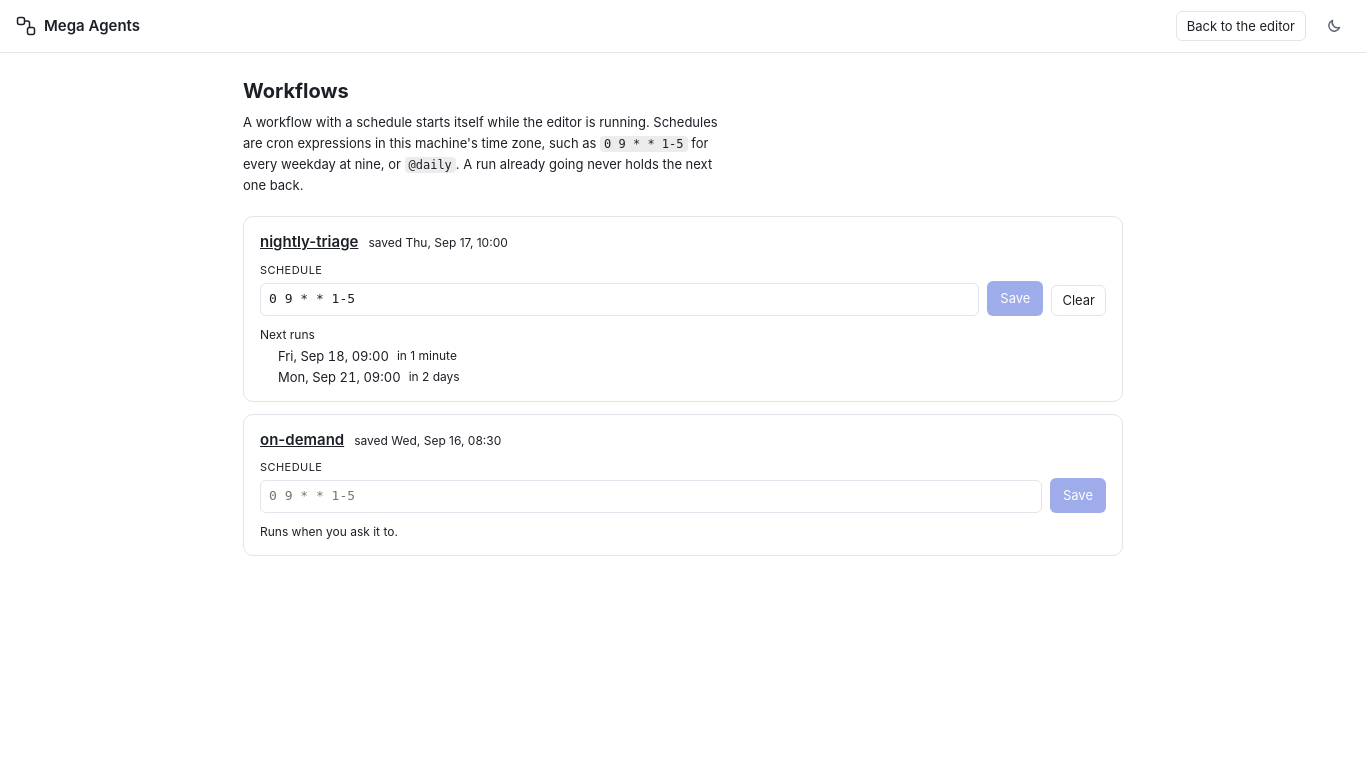
Test: the workflows page › saving puts the workflow on the schedule
The image size is (1366, 768).
expect the link "on-demand" is shown: met, box [260, 429, 344, 450]
Type "@daily" into the field named "Schedule for on-demand".
click(651, 497); type("@daily")  # box [260, 480, 1042, 513]
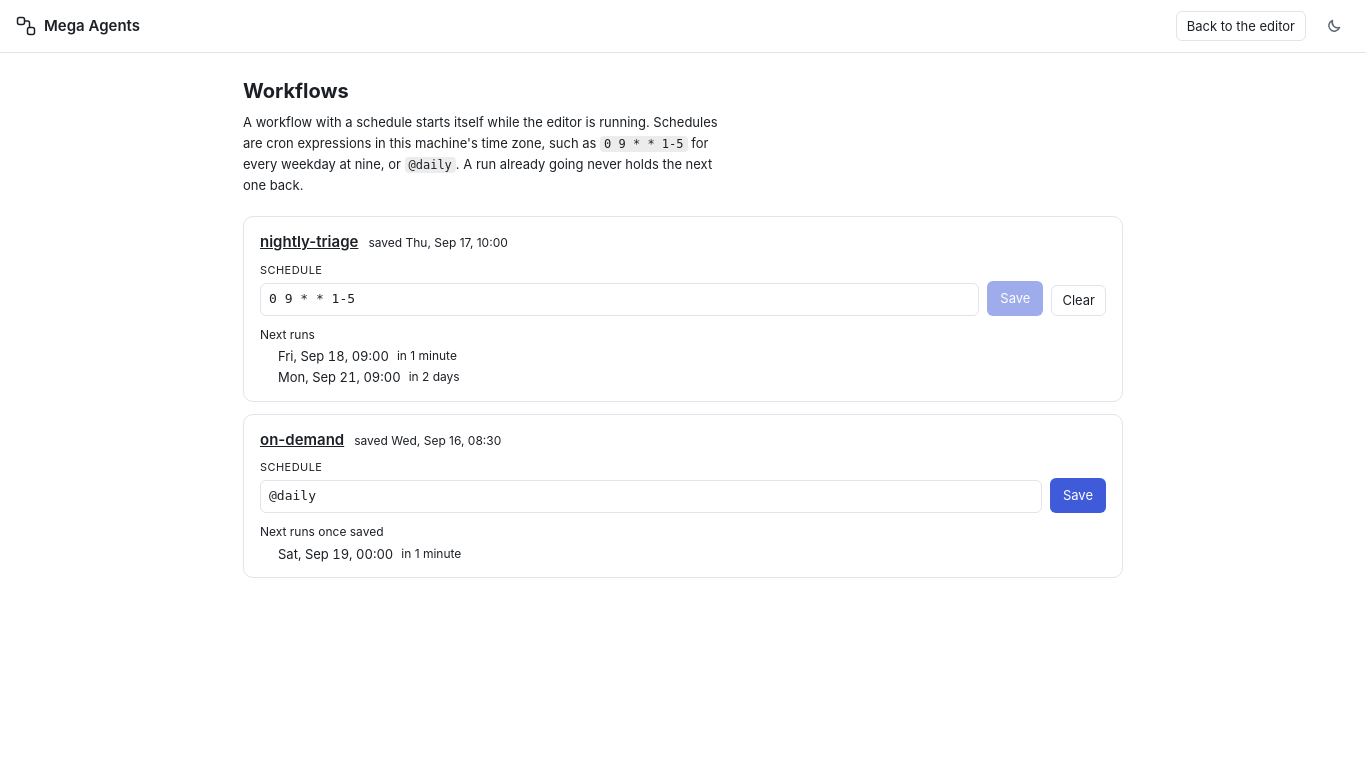
expect the button with aria-label "Save schedule for on-demand" is enabled: met
Click the button with aria-label "Save schedule for on-demand".
click(1078, 496)  # box [1050, 478, 1106, 513]
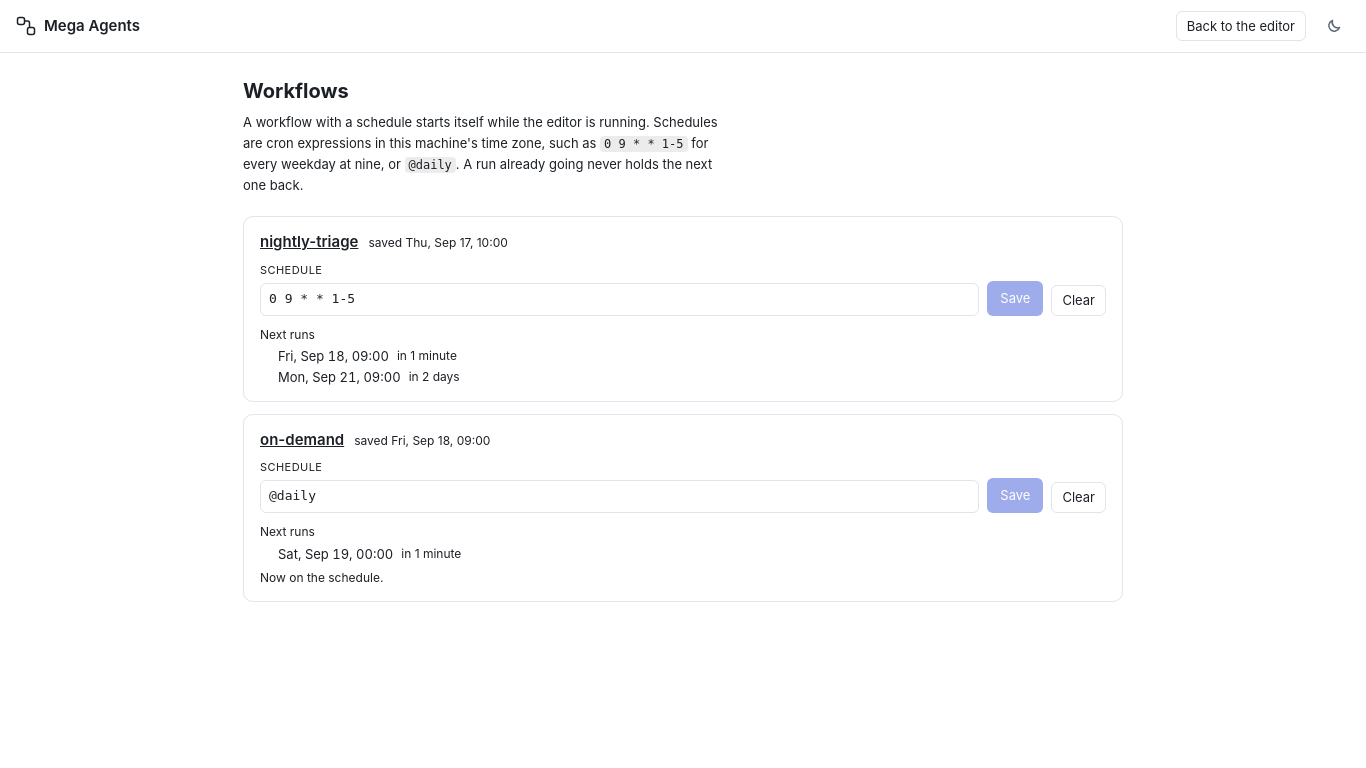
expect the text "Now on the schedule." is shown: met, box [260, 570, 383, 585]
